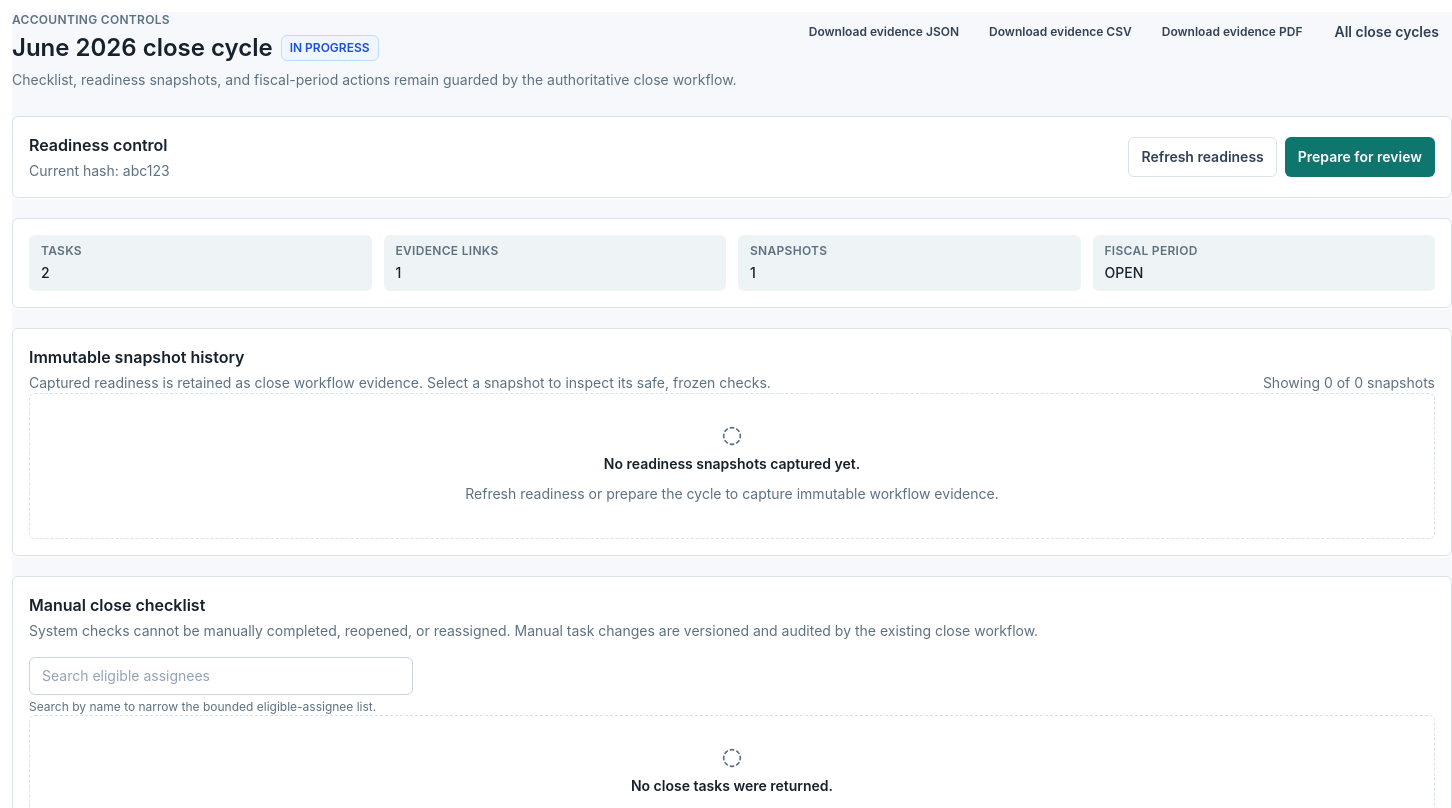
Test case: accountant close cycle detail › reloads the full cycle after a partial prepare response
Step 1. Click the button "Prepare for review" → coordinates (1360, 157), box [1285,137,1435,177]
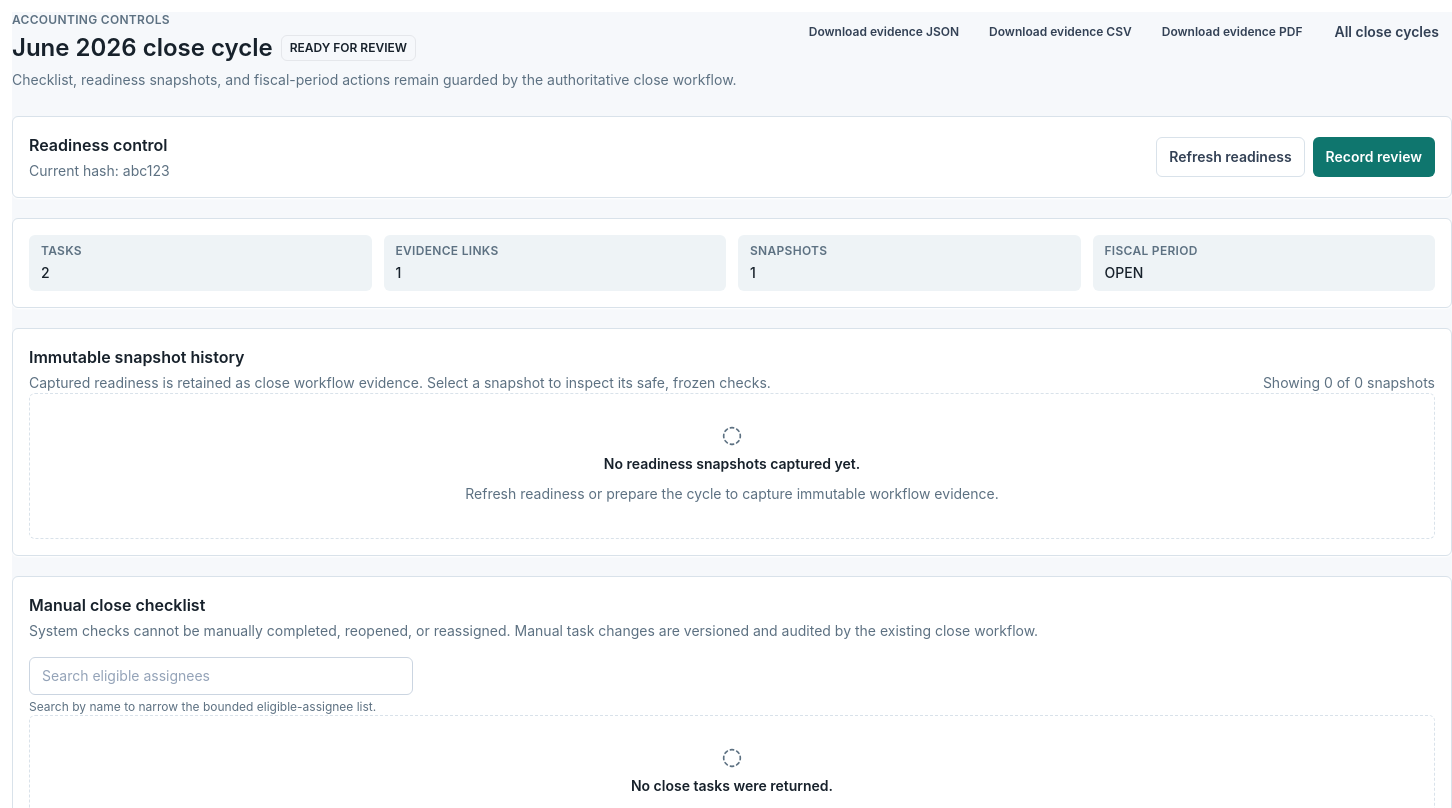
Check: the heading "June 2026 close cycle" is shown, box [12,32,273,64]
Check: the text "READY FOR REVIEW" is shown, box [281,35,416,61]
